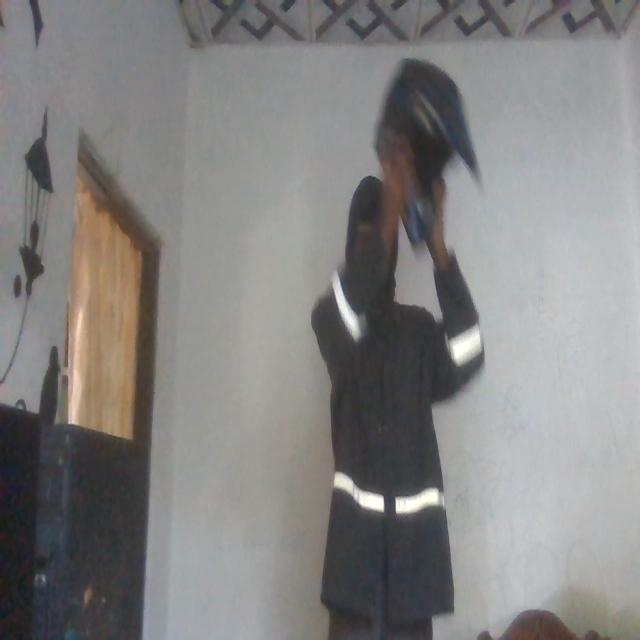Jacket_Wearer: (319, 270, 469, 625)
Person: (290, 167, 485, 640)
